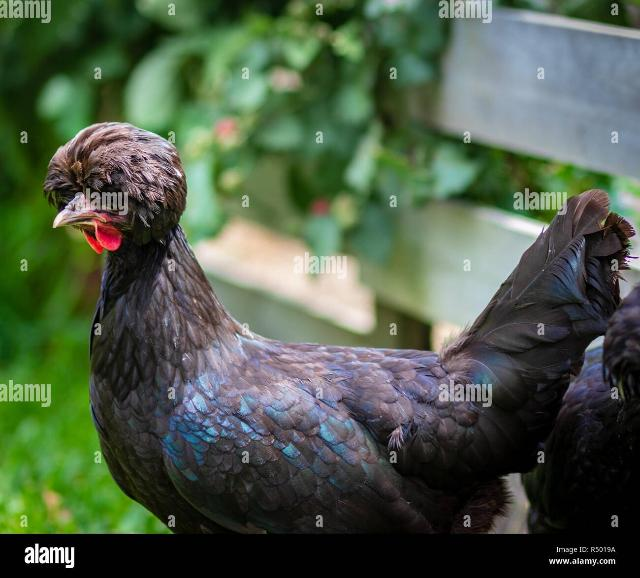Chicken: (42, 121, 635, 532)
